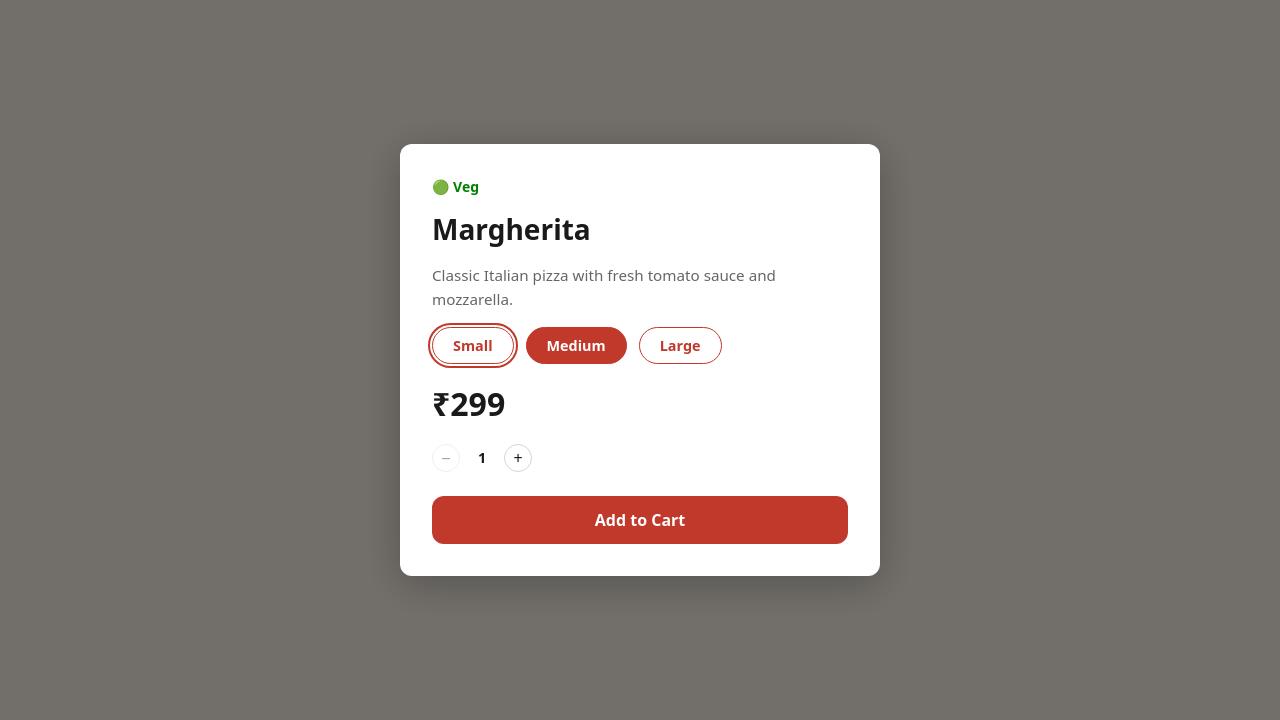
Test: PizzaDetailModal – size selection › clicking Small updates price to ₹239
What coordinates should you click on to do the following:
click the button "Small"
I would click on:
 (473, 346)
Its box is [432, 327, 514, 364].
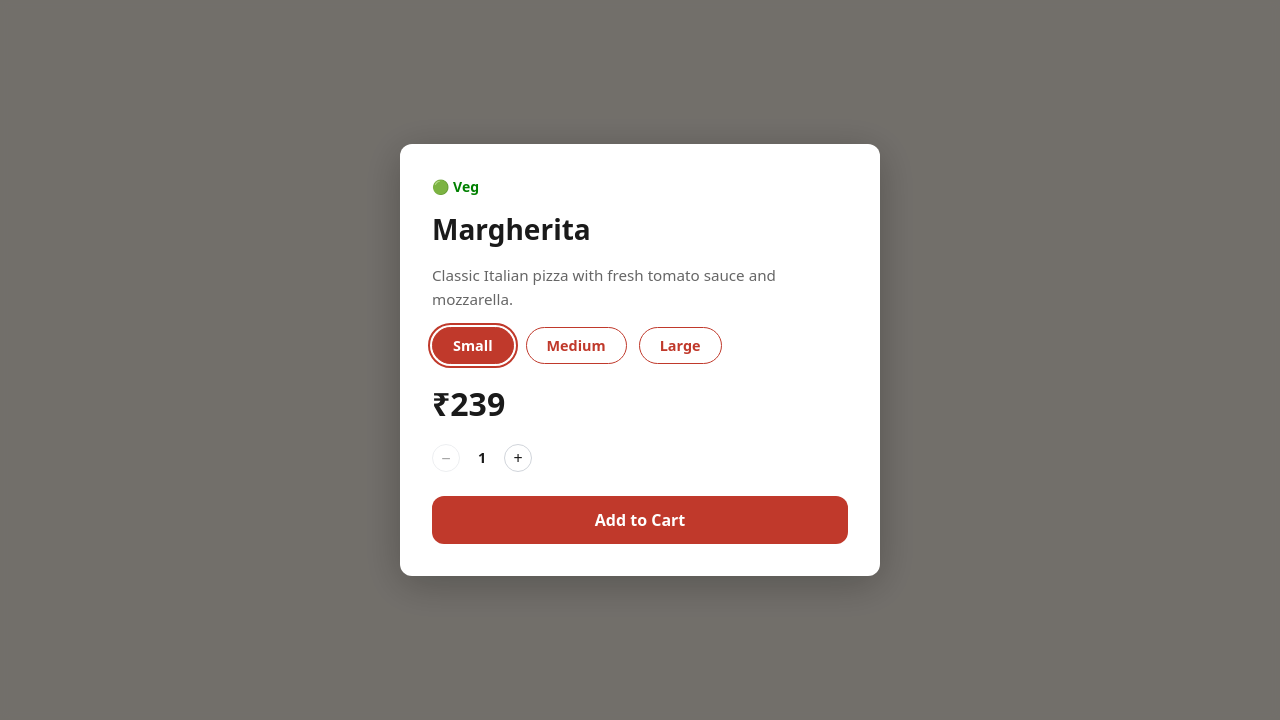
Expected: the text "₹239" is shown, [432, 382, 505, 425]
